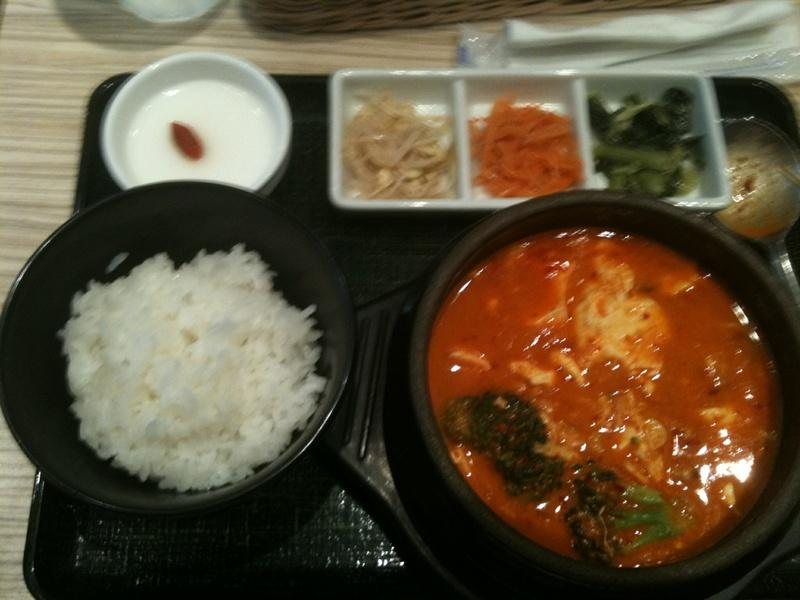rice: (58, 244, 324, 492)
